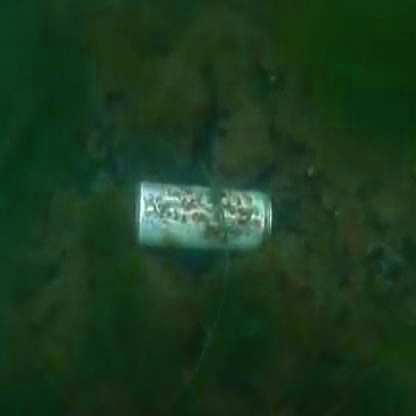can: (122, 179, 290, 265)
